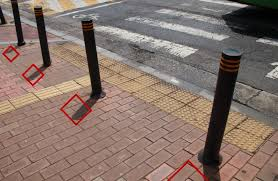guide_blocks: (195, 121, 275, 151), (151, 85, 189, 111), (50, 43, 86, 66), (2, 93, 38, 110), (104, 61, 129, 85), (130, 74, 154, 97), (41, 80, 74, 94)
